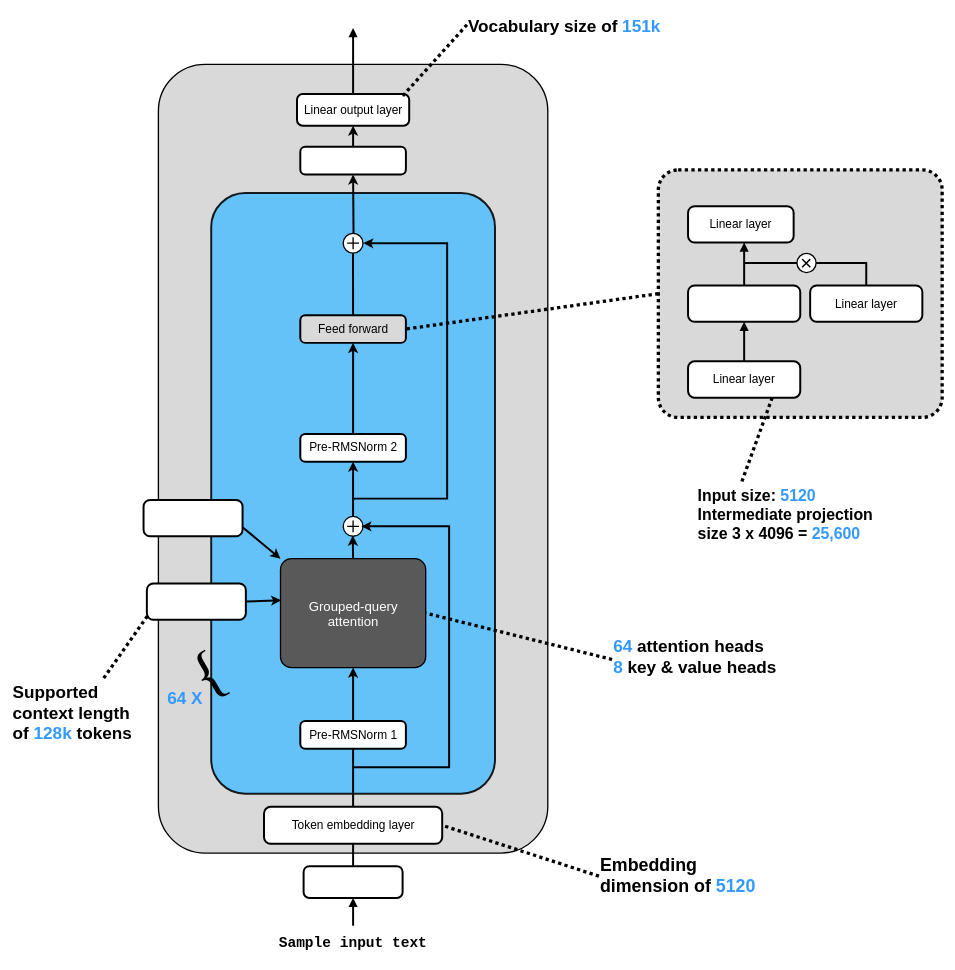
This 955x970 diagram has some shape labels left out. Each missing label, with the centre of its shape:
Final RMSNorm: the point at 353,160
QKNorm: the point at 192,518
RoPE: the point at 196,601
SiLU activation: the point at 744,303
Tokenized text: the point at 352,882
